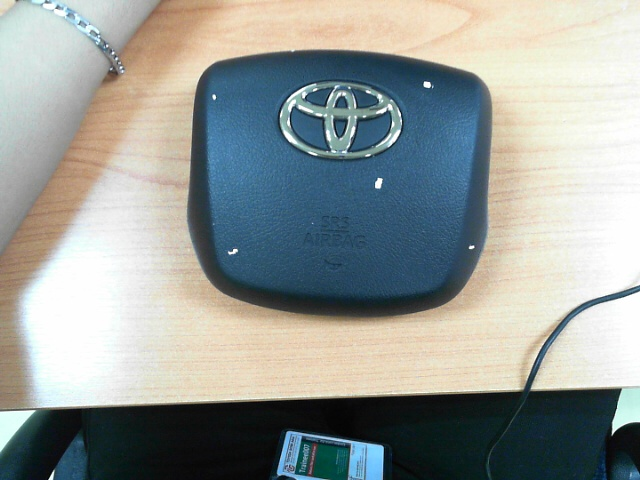Airbag: (374, 177, 383, 189), (423, 81, 434, 89), (227, 248, 238, 255), (211, 93, 217, 101), (468, 245, 475, 249)
